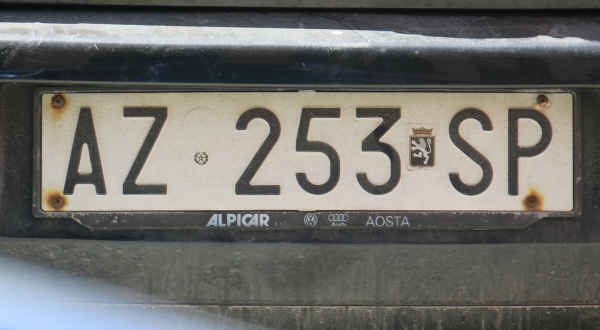license_plate: (39, 90, 576, 215)
